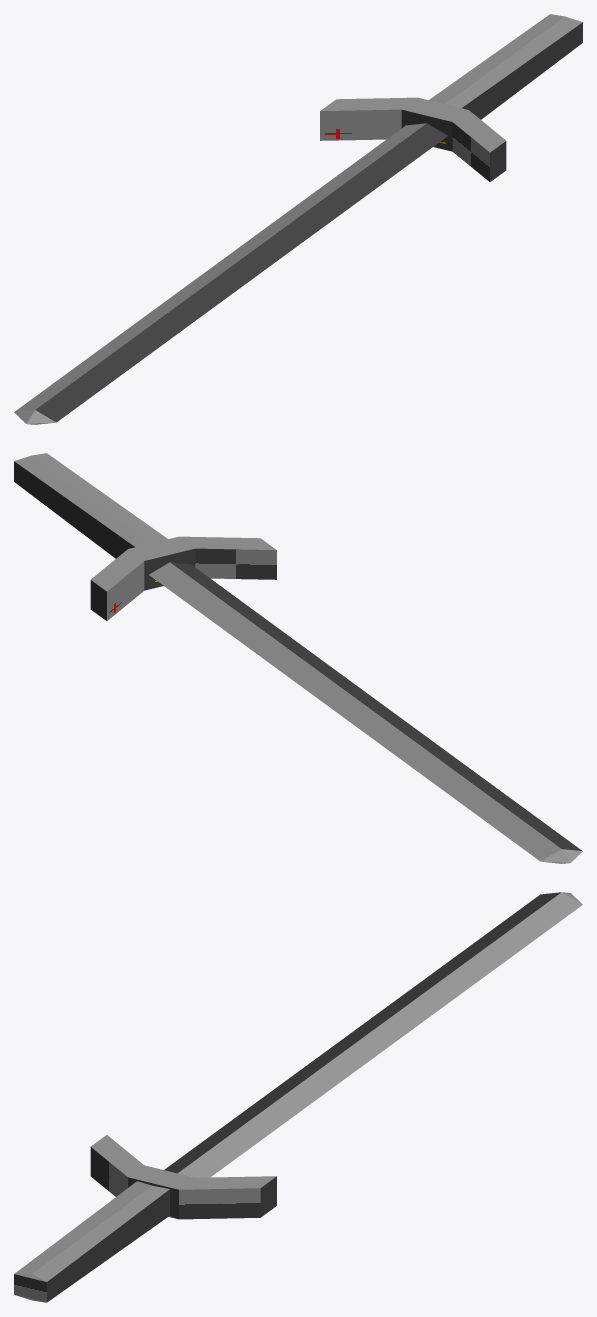
The model's file is Sword.gltf.
3 renders of one model, top to bottom at view 1: azimuth 90°, elevation 25°; view 2: azimuth 150°, elevation 25°; view 3: azimuth 270°, elevation 25°, orthographic.
Visible parts, largest first — view 1: Sword; view 2: Sword; view 3: Sword.
Part boxes in pixels (x1,y1,x2,y2): Sword: (14, 14, 582, 424); Sword: (14, 453, 582, 863); Sword: (14, 892, 582, 1302).
Bounding box in the file's own units: 0.5777 × 0.02 × 0.3477.
Materials: 1 (1 with a texture image).
